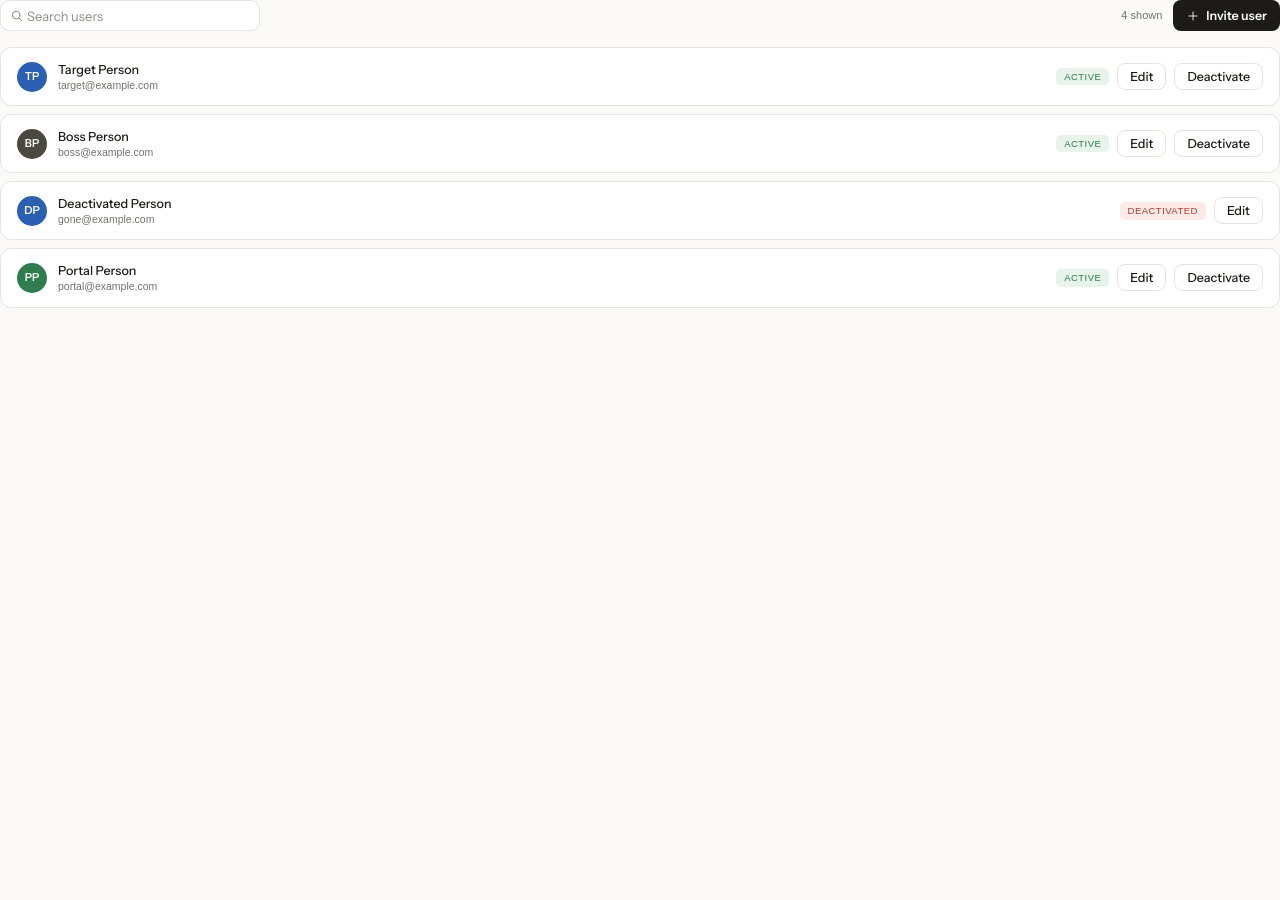
Scenario: UsersPage manager picker › lists active internal users except the one being edited, with a No manager option
Click the button with aria-label "Edit Target Person": [1142, 77] box [1117,63,1166,90]
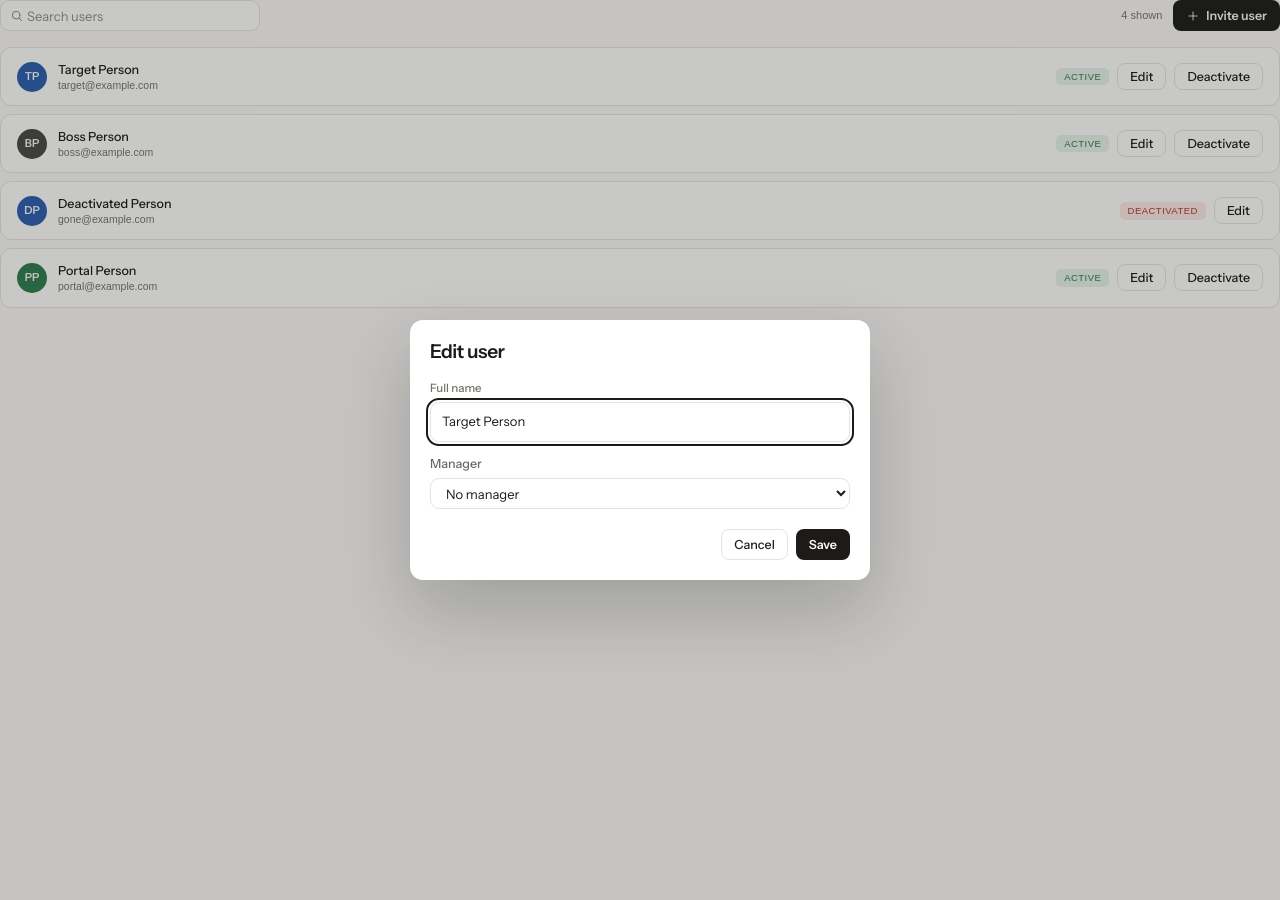
Result: the dropdown labelled "Manager" shows "No manager" at [430,478,850,509]
